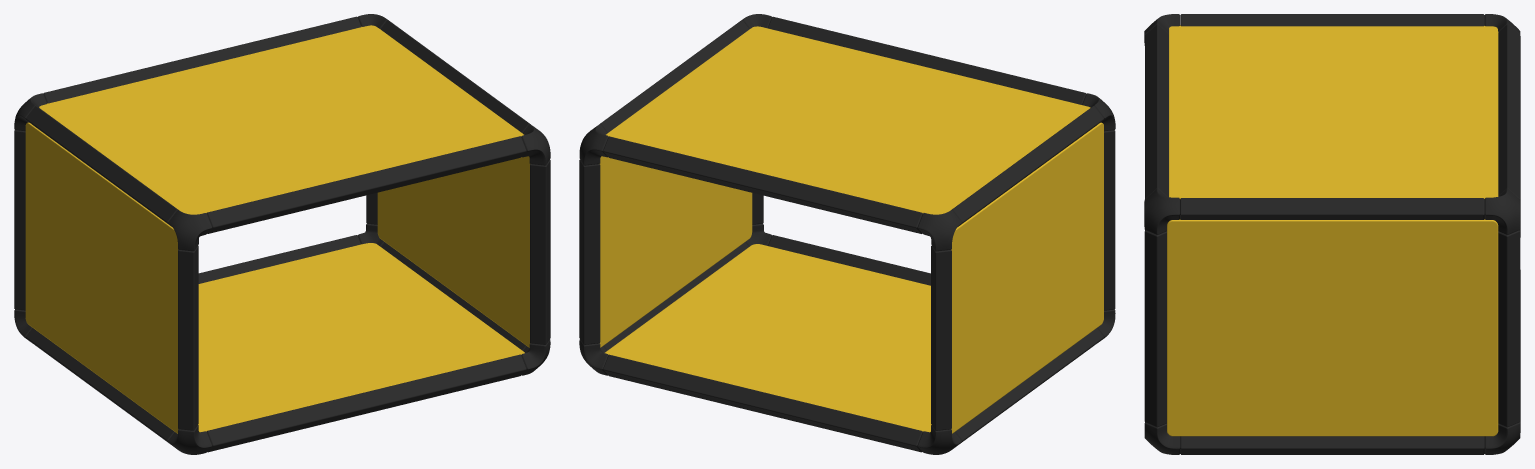
3 views of the same model, side by side, from view 1: azimuth 30°, elevation 25°; view 2: azimuth 150°, elevation 25°; view 3: azimuth 270°, elevation 25° (orthographic). The views are drawn at different scales.
Visible parts, largest first — view 1: 420x329x229; view 2: 420x329x229; view 3: 420x329x229.
Boxes of the visible parts, <box> form: 420x329x229: <box>14,14,550,454</box>; 420x329x229: <box>579,14,1115,454</box>; 420x329x229: <box>1144,14,1520,454</box>.
Bounding box in the file's own units: 0.4977 × 0.3066 × 0.4063.
